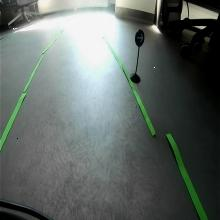right: (134, 28, 145, 47)
